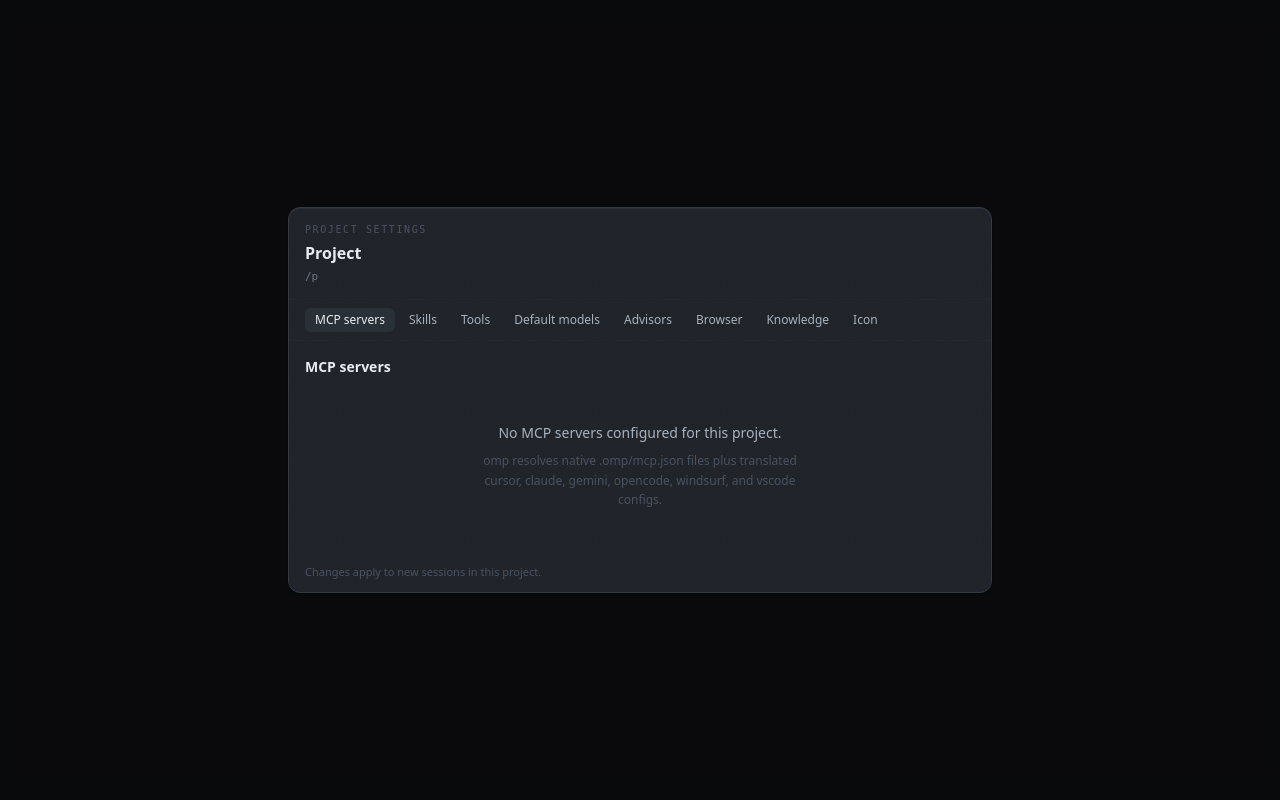
Scenario: ProjectSettings › shows an unset Knowledge home with no chip checked and no Clear
Click the tab "Knowledge": (798, 320) [756,308,839,332]
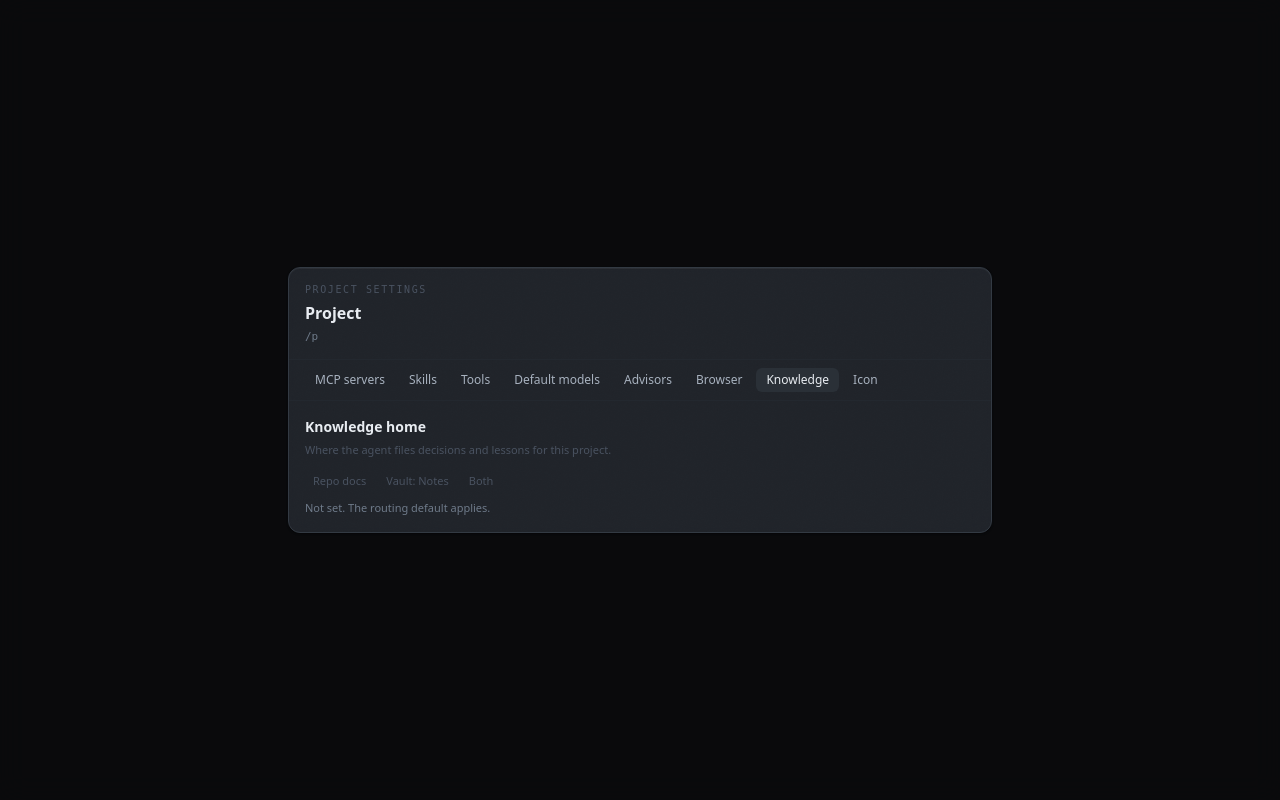
Check: the text "Not set. The routing default applies." is shown, box [305,500,490,515]
